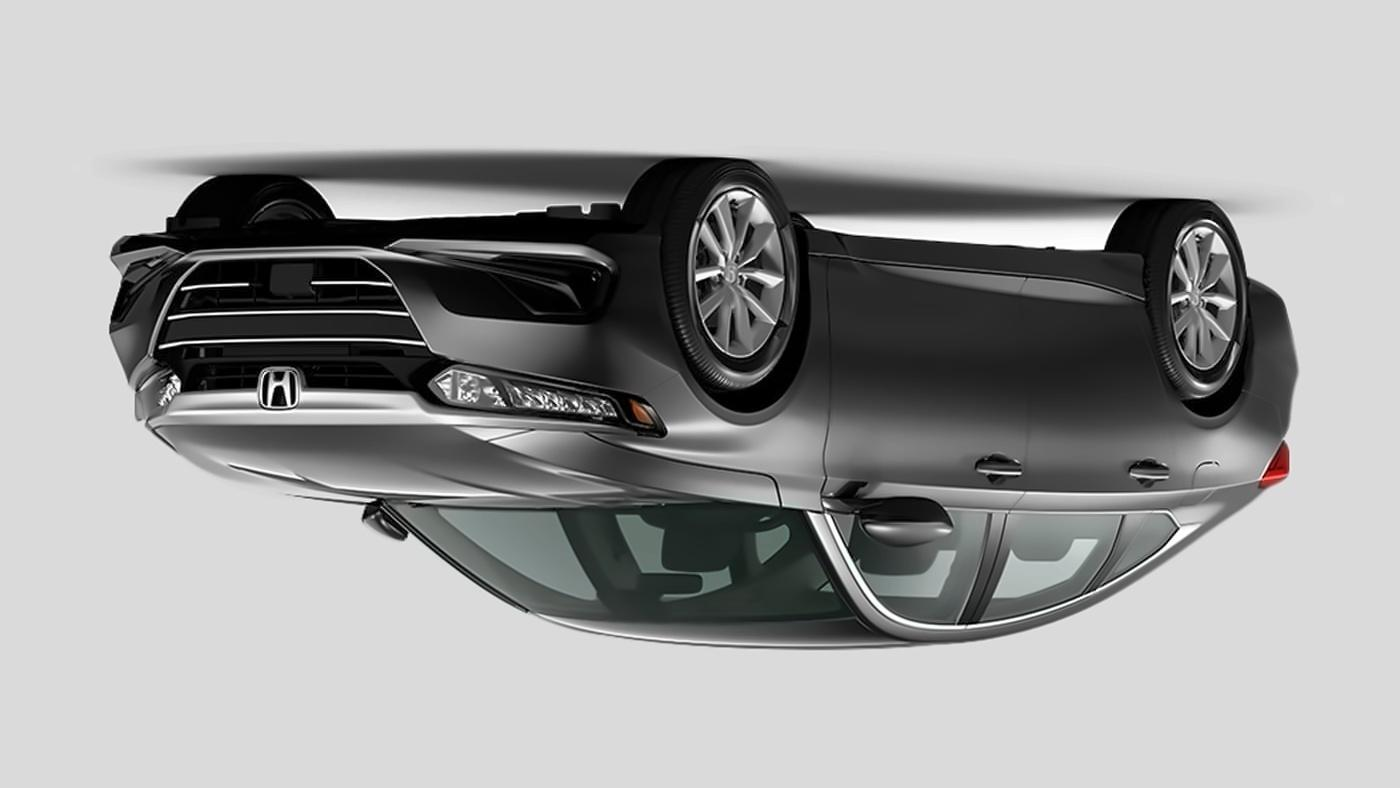Car hood: (134, 408, 792, 512)
Driver-s door - -F-R-: (822, 258, 1028, 641)
Fender - -F-R-: (595, 224, 848, 512)
Fender - -R-R-: (1132, 292, 1283, 538)
Front bumper: (102, 202, 664, 362)
Headlight - -L-: (112, 368, 203, 427)
Headlight - -R-: (404, 342, 681, 453)
Passenger-s door - -R-R-: (1001, 282, 1178, 650)
Rear bumper: (1232, 268, 1303, 423)
Rear light - -R-: (1245, 422, 1317, 518)
Side bumper - -R-: (794, 206, 1159, 307)
Side mirror - -L-: (318, 480, 423, 552)
Side mirror - -R-: (820, 476, 970, 558)
